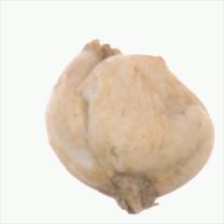L3: (81, 37, 165, 63)
L4: (44, 39, 214, 213)
